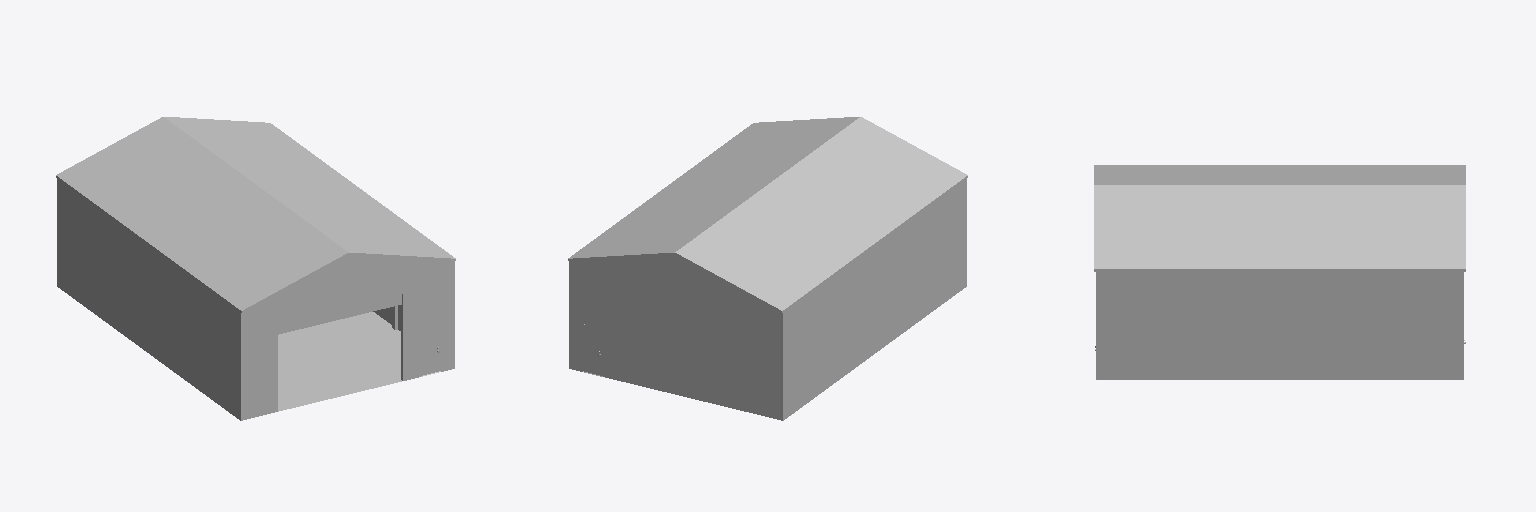
Rendered from shed.obj.
The picture shows the model from 3 angles: view 1: azimuth 30°, elevation 25°; view 2: azimuth 150°, elevation 25°; view 3: azimuth 270°, elevation 25°; orthographic projection.
Parts seen in each view (by area): view 1: Roof, Wall_L, Wall_F, Floor, Top_Bit, Front; view 2: Roof, Wall_B, Wall_L, Back; view 3: Wall_R, Roof.
Boxes of the visible parts, x1,y1,x2,y2 form: Roof: [56, 117, 455, 312]; Wall_L: [57, 178, 240, 420]; Wall_F: [241, 255, 454, 420]; Floor: [278, 312, 401, 411]; Top_Bit: [278, 294, 401, 334]; Front: [421, 324, 441, 376]; Roof: [568, 117, 967, 312]; Wall_B: [569, 255, 782, 420]; Wall_L: [783, 178, 966, 420]; Back: [582, 324, 602, 376]; Wall_R: [1096, 271, 1463, 379]; Roof: [1094, 165, 1465, 271].
Size of the model in its own units: 10.3 by 6.55 by 15.43.